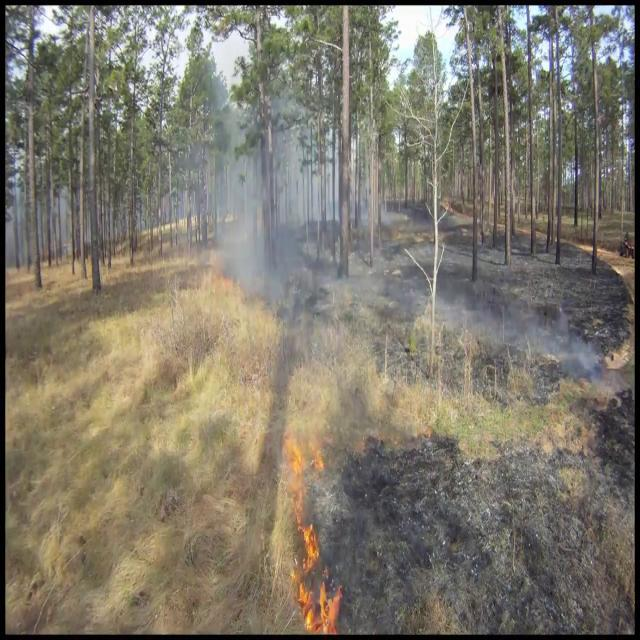Fire: (273, 419, 351, 631)
Smoke: (198, 111, 363, 342)
